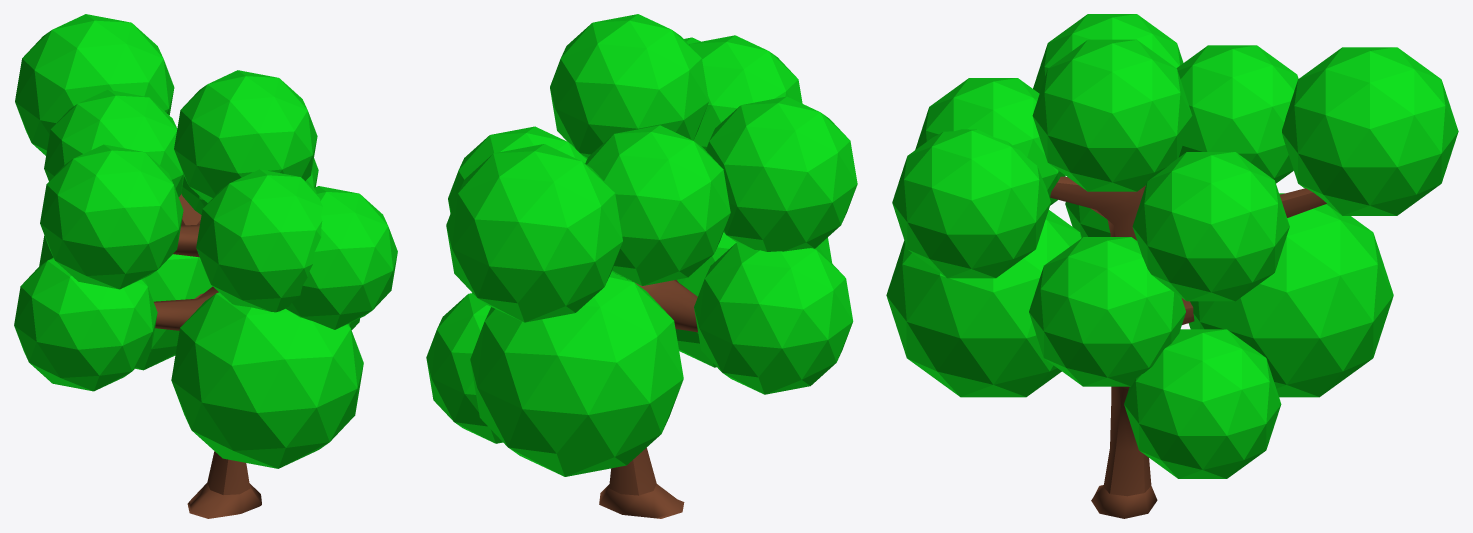
The model's file is arbusto.glb.
3 renders of one model, left to right at view 1: azimuth 30°, elevation 25°; view 2: azimuth 150°, elevation 25°; view 3: azimuth 270°, elevation 25°, orthographic. The views are drawn at different scales.
Parts seen in each view (by area): view 1: Icosphere; view 2: Icosphere; view 3: Icosphere.
Part boxes in pixels (box(x1,y1,x2,y2)): Icosphere: box(14, 14, 397, 518); Icosphere: box(426, 14, 857, 518); Icosphere: box(886, 14, 1458, 518).
Bounding box in the file's own units: 3.94 × 4.8 × 5.34.
